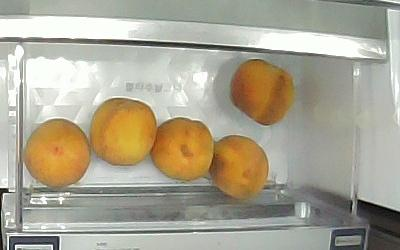peach: (90, 98, 157, 165), (25, 118, 91, 186), (229, 59, 294, 126), (151, 117, 213, 180), (210, 136, 269, 199)
